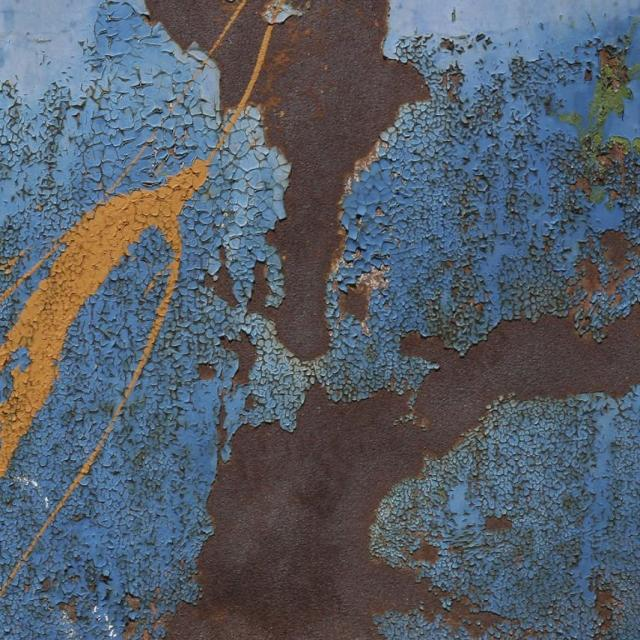Uniform Corrosion: (166, 312, 639, 639), (249, 0, 428, 359), (250, 0, 427, 359), (208, 425, 284, 628), (568, 229, 639, 338), (376, 592, 534, 639), (216, 0, 271, 101), (217, 0, 263, 106), (146, 0, 238, 50), (147, 0, 230, 47), (210, 248, 237, 306), (223, 338, 255, 383), (595, 590, 620, 631), (253, 265, 268, 302), (241, 358, 247, 378)
